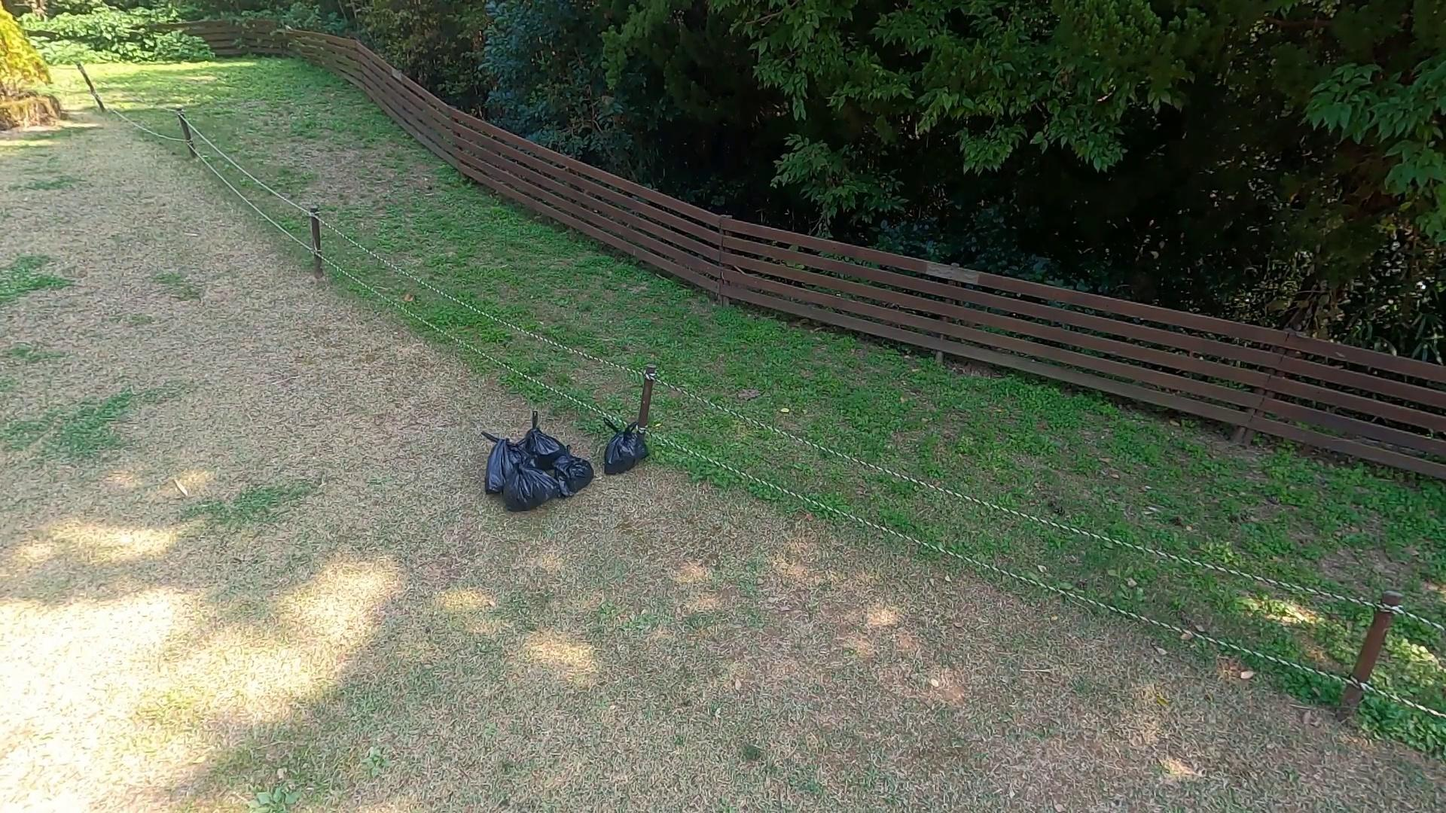trash: (501, 410, 578, 475), (478, 423, 530, 492), (533, 439, 596, 494), (504, 457, 563, 514), (595, 418, 653, 475)
